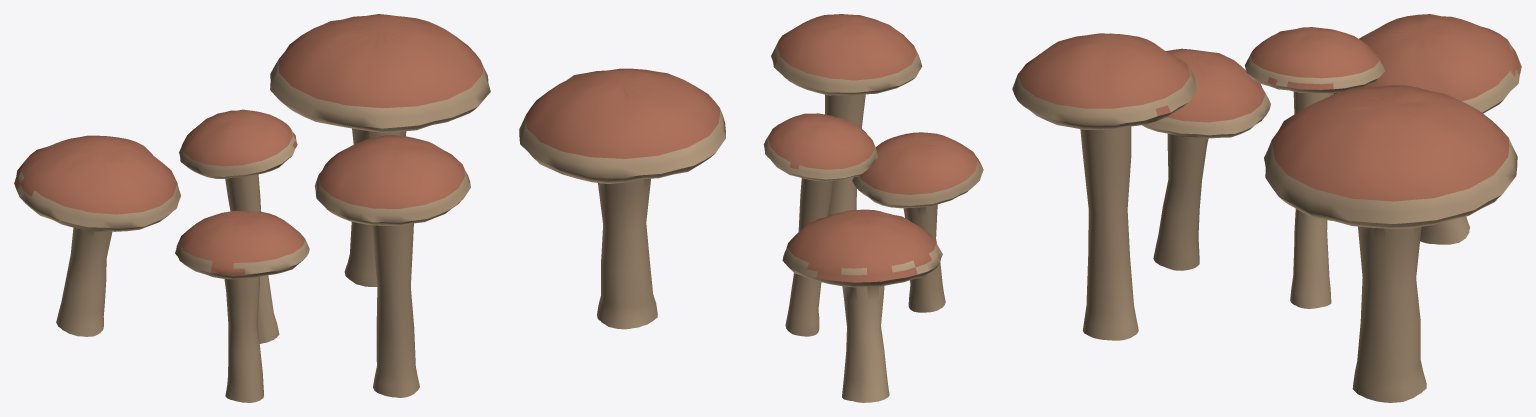
Rendered from wild-mushrooms-v01.glb.
The picture shows the model from 3 angles, left to right: view 1: azimuth 30°, elevation 25°; view 2: azimuth 150°, elevation 25°; view 3: azimuth 270°, elevation 25°; orthographic projection. The views are drawn at different scales.
Visible parts, largest first — view 1: wild-mushrooms; view 2: wild-mushrooms; view 3: wild-mushrooms.
Part boxes in pixels (<box>): wild-mushrooms: <box>14,14,490,402</box>; wild-mushrooms: <box>519,14,983,402</box>; wild-mushrooms: <box>1012,14,1521,402</box>.
Bounding box in the file's own units: 0.8791 × 0.4776 × 0.7669.
